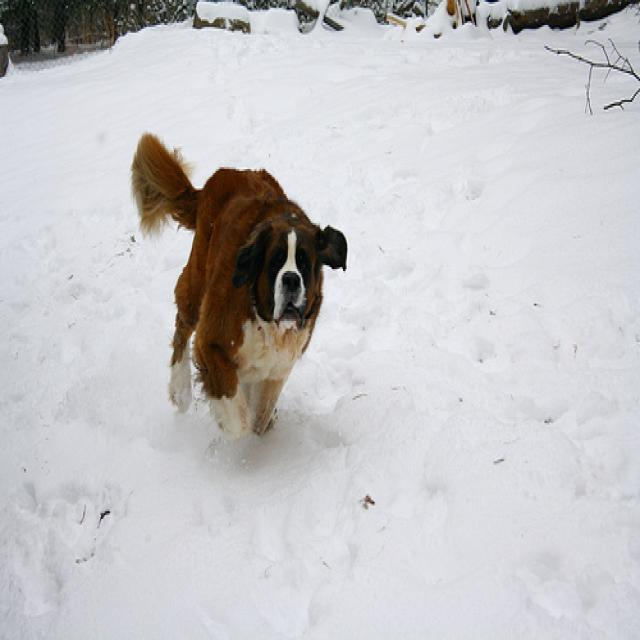dog-saint_bernard: (125, 127, 357, 448)
